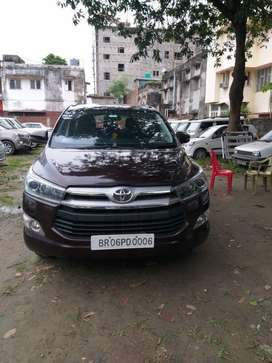BF06P00006: (90, 233, 154, 250)
